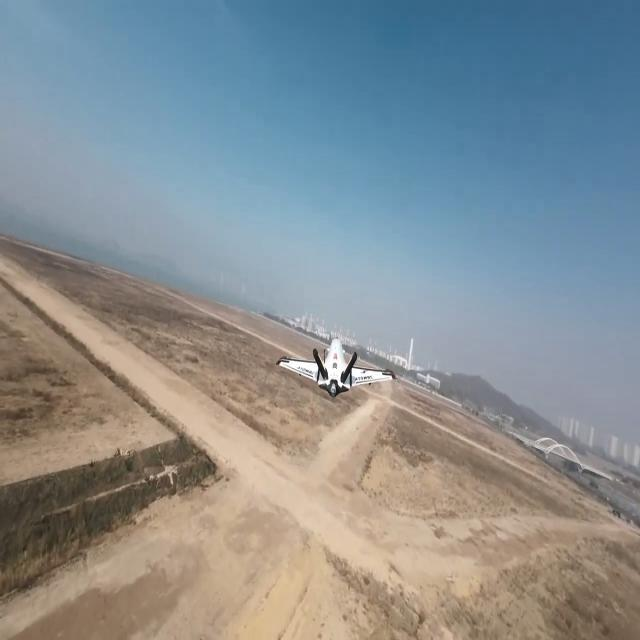iha: (306, 366, 366, 369)
